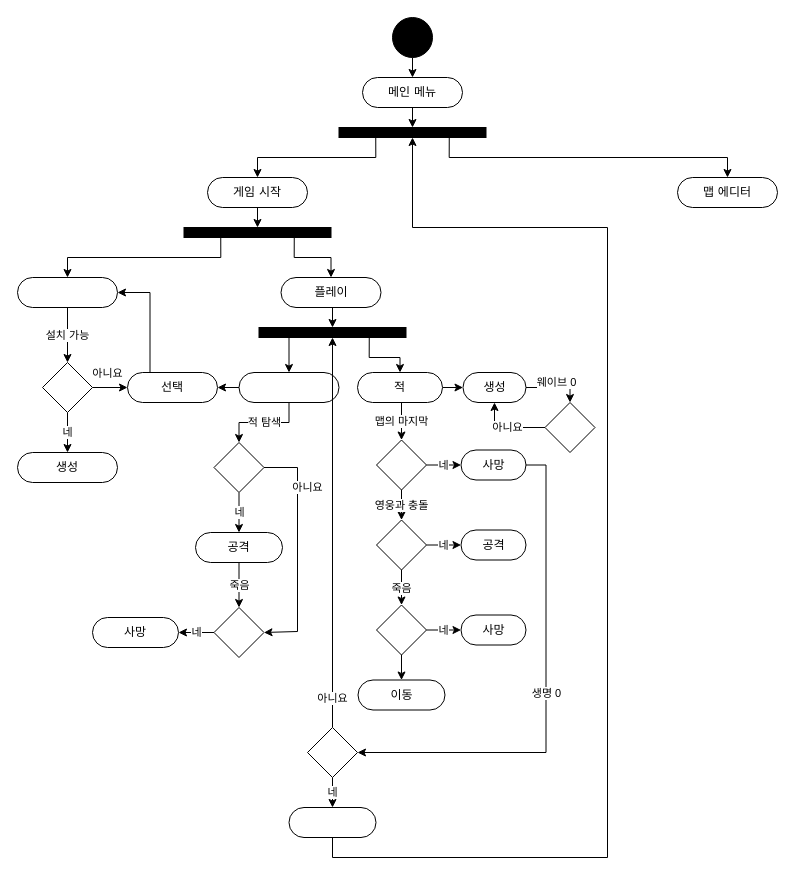
The diagram is 795 pixels wide and 883 high, and some of its shapes have lost their labels. Each missing label, with the centre of its shape:
"영웅" goes at point (288, 387).
"일시정지" goes at point (67, 292).
"종료" goes at point (332, 822).
